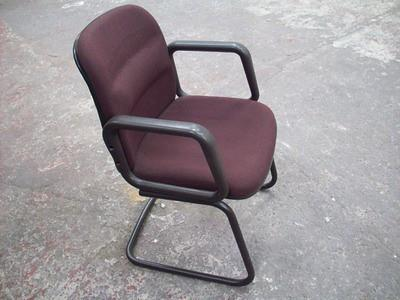chair: (72, 4, 279, 287)
